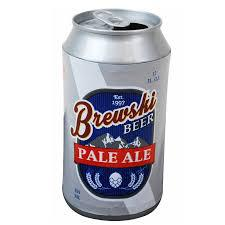beer: (62, 9, 163, 221)
